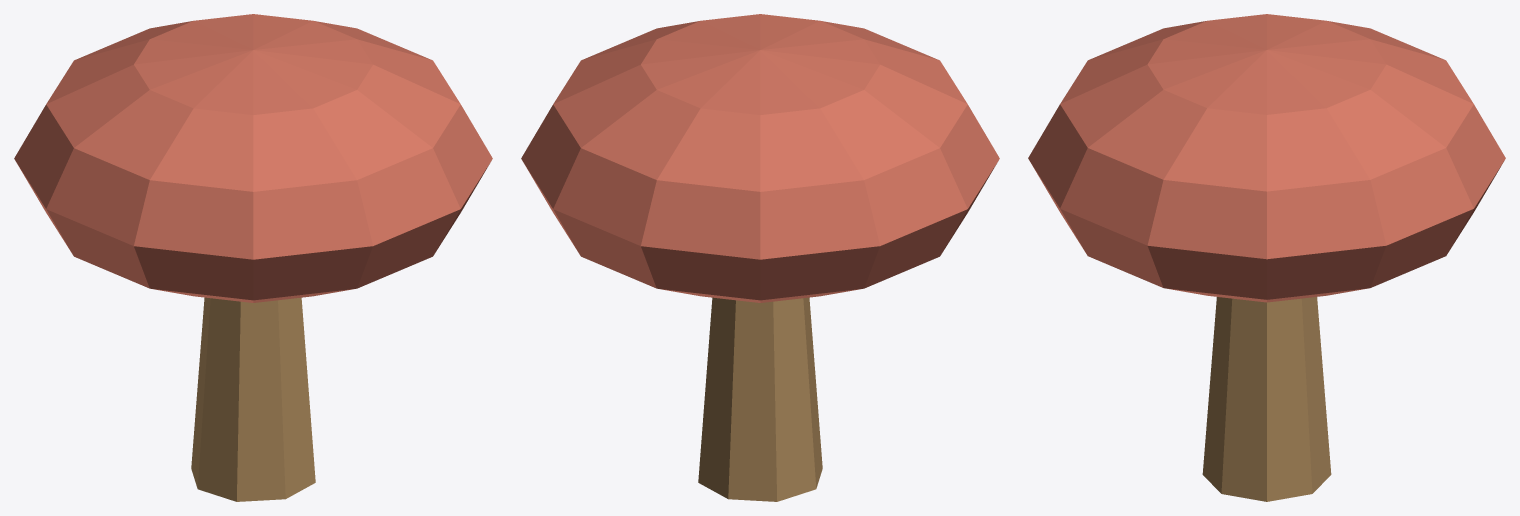
The model's file is SM_Mushroom_Red.fbx.
3 views of the same model, side by side, from view 1: azimuth 30°, elevation 25°; view 2: azimuth 150°, elevation 25°; view 3: azimuth 270°, elevation 25° (orthographic).
Visible parts, largest first — view 1: SM_Mushroom_Red; view 2: SM_Mushroom_Red; view 3: SM_Mushroom_Red.
Boxes of the visible parts, box(x1,y1,x2,y2) form: SM_Mushroom_Red: box(14, 14, 492, 501); SM_Mushroom_Red: box(521, 14, 999, 501); SM_Mushroom_Red: box(1028, 14, 1505, 501).
Bounding box in the file's own units: 0.26 × 0.255 × 0.26.
